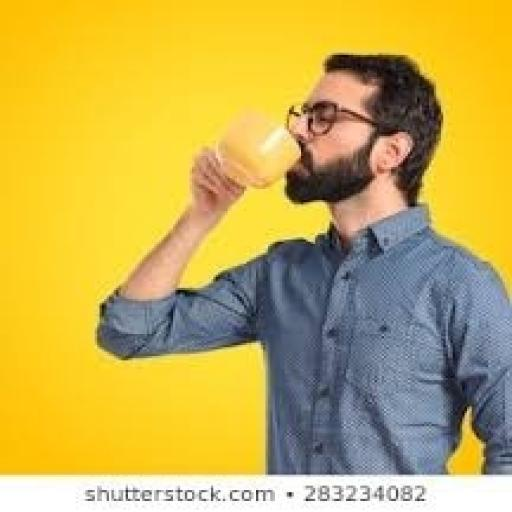drinking: (211, 7, 463, 189)
